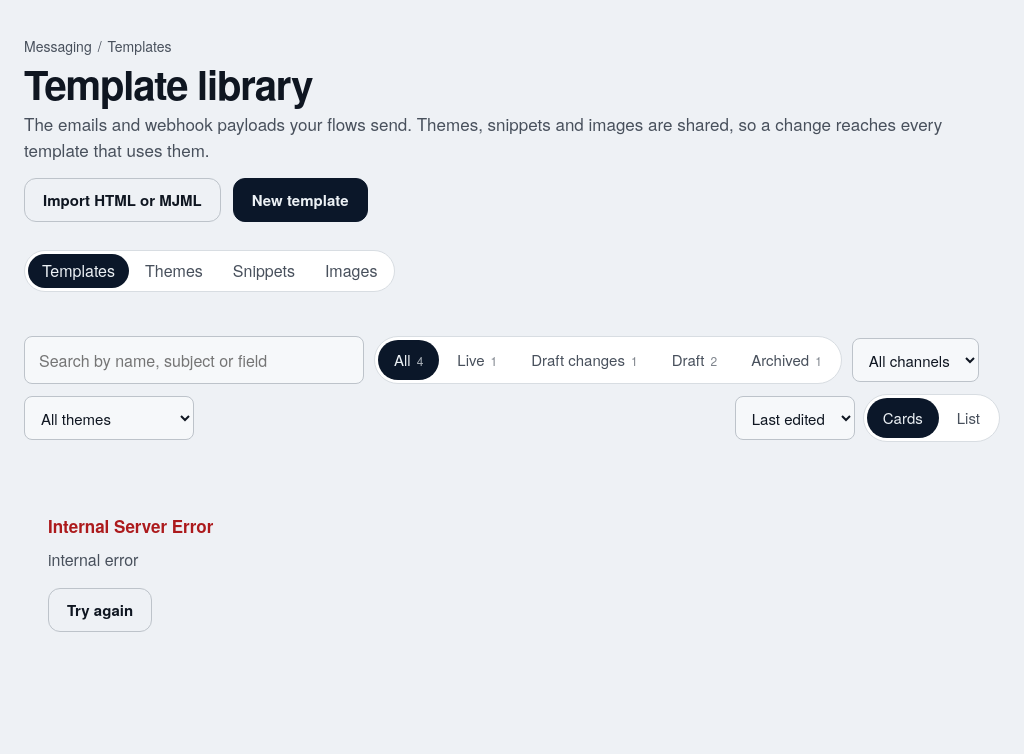
the template library › shows an error with a retry that loads again
Click the button "Try again" at (100, 610), box [48,588,152,632]
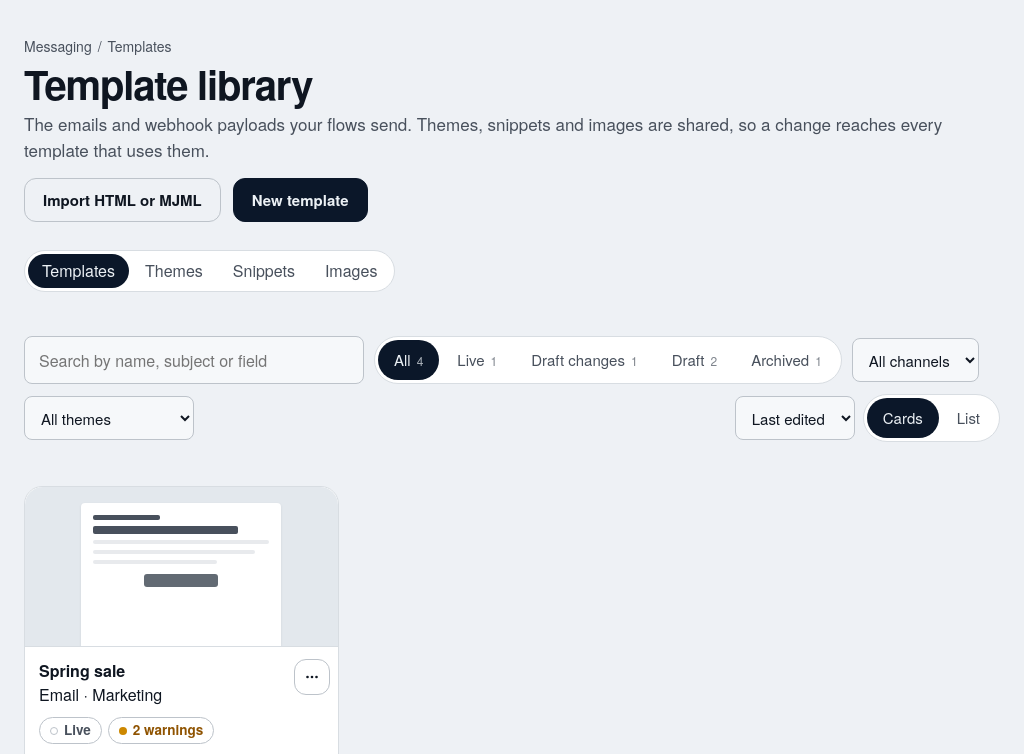
Result: the link "Spring sale" is shown at [39,659,125,682]
